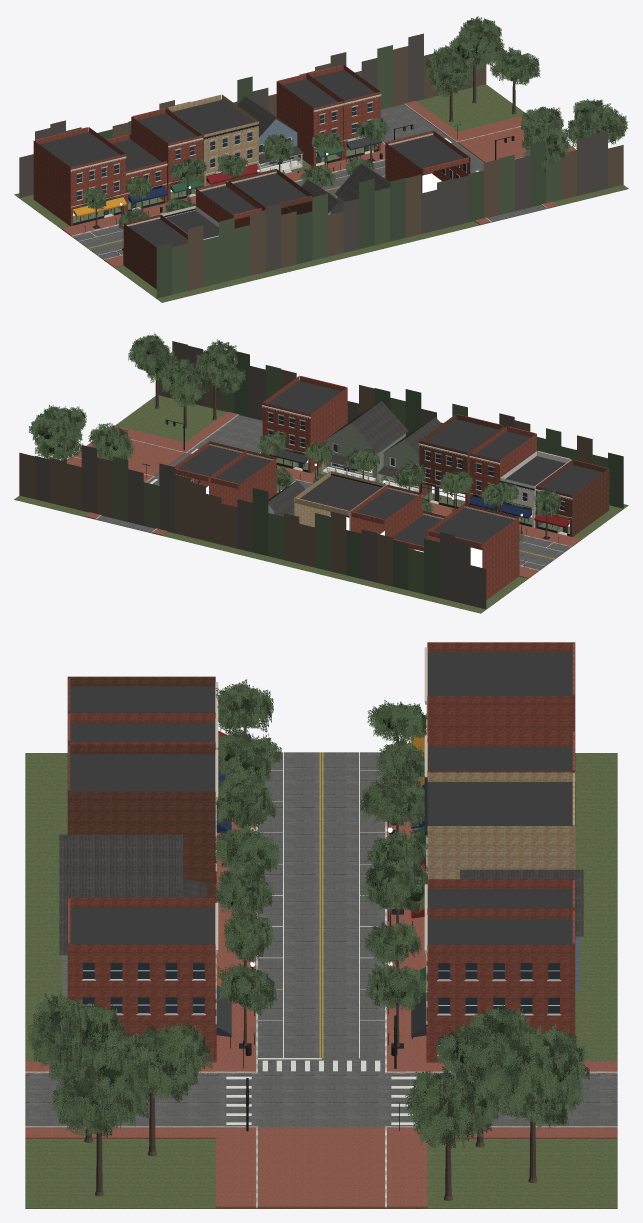
The model's file is us_street.glb.
3 renders of one model, top to bottom at view 1: azimuth 30°, elevation 25°; view 2: azimuth 150°, elevation 25°; view 3: azimuth 270°, elevation 25°, orthographic. The views are drawn at different scales.
Parts seen in each view (by area): view 1: ust_vc, ust_brick_red, ust_tree_cards, ust_roof, ust_grass, ust_walk, ust_asphalt, ust_brick_brown, ust_b3_brick, ust_shingle, ust_stone, ust_glassD (+8 smaller); view 2: ust_vc, ust_tree_cards, ust_brick_red, ust_roof, ust_grass, ust_brick_brown, ust_walk, ust_shingle, ust_asphalt, ust_stone, ust_b3_brick, ust_h12_siding (+11 smaller); view 3: ust_tree_cards, ust_asphalt, ust_grass, ust_roof, ust_brick_red, ust_walk, ust_brick_brown, ust_shingle, ust_b3_brick, ust_tree_core, ust_glassD, ust_lines_white (+6 smaller).
Part boxes in pixels (x1=…): ust_vc: x1=19, y1=33, x2=623, y2=298; ust_brick_red: x1=33, y1=65, x2=470, y2=228; ust_tree_cards: x1=83, y1=16, x2=628, y2=231; ust_roof: x1=39, y1=69, x2=469, y2=246; ust_grass: x1=14, y1=84, x2=628, y2=302; ust_walk: x1=61, y1=101, x2=576, y2=267; ust_asphalt: x1=72, y1=104, x2=546, y2=259; ust_brick_brown: x1=123, y1=169, x2=313, y2=289; ust_b3_brick: x1=167, y1=94, x2=258, y2=186; ust_shingle: x1=237, y1=96, x2=390, y2=214; ust_stone: x1=70, y1=94, x2=466, y2=245; ust_glassD: x1=77, y1=103, x2=465, y2=199; ust_vc: x1=19, y1=341, x2=623, y2=609; ust_tree_cards: x1=29, y1=332, x2=561, y2=542; ust_brick_red: x1=174, y1=375, x2=536, y2=599; ust_roof: x1=178, y1=380, x2=603, y2=548; ust_grass: x1=14, y1=395, x2=628, y2=613; ust_brick_brown: x1=419, y1=414, x2=609, y2=536; ust_walk: x1=67, y1=411, x2=581, y2=578; ust_shingle: x1=268, y1=401, x2=441, y2=516; ust_asphalt: x1=96, y1=415, x2=570, y2=570; ust_stone: x1=185, y1=405, x2=572, y2=556; ust_b3_brick: x1=294, y1=471, x2=386, y2=530; ust_h12_siding: x1=326, y1=423, x2=405, y2=480; ust_tree_cards: x1=27, y1=679, x2=589, y2=1150; ust_asphalt: x1=25, y1=752, x2=617, y2=1127; ust_grass: x1=25, y1=753, x2=617, y2=1208; ust_roof: x1=67, y1=652, x2=575, y2=944; ust_brick_red: x1=67, y1=642, x2=575, y2=1062; ust_walk: x1=25, y1=816, x2=617, y2=1208; ust_brick_brown: x1=67, y1=676, x2=216, y2=902; ust_shingle: x1=59, y1=834, x2=583, y2=954; ust_b3_brick: x1=427, y1=772, x2=575, y2=879; ust_tree_core: x1=46, y1=695, x2=571, y2=1131; ust_glassD: x1=83, y1=962, x2=559, y2=1054; ust_lines_white: x1=226, y1=752, x2=416, y2=1124.
Bounding box in the file's own units: 105 × 17.05 × 56.
Materials: 33 (15 with a texture image).
